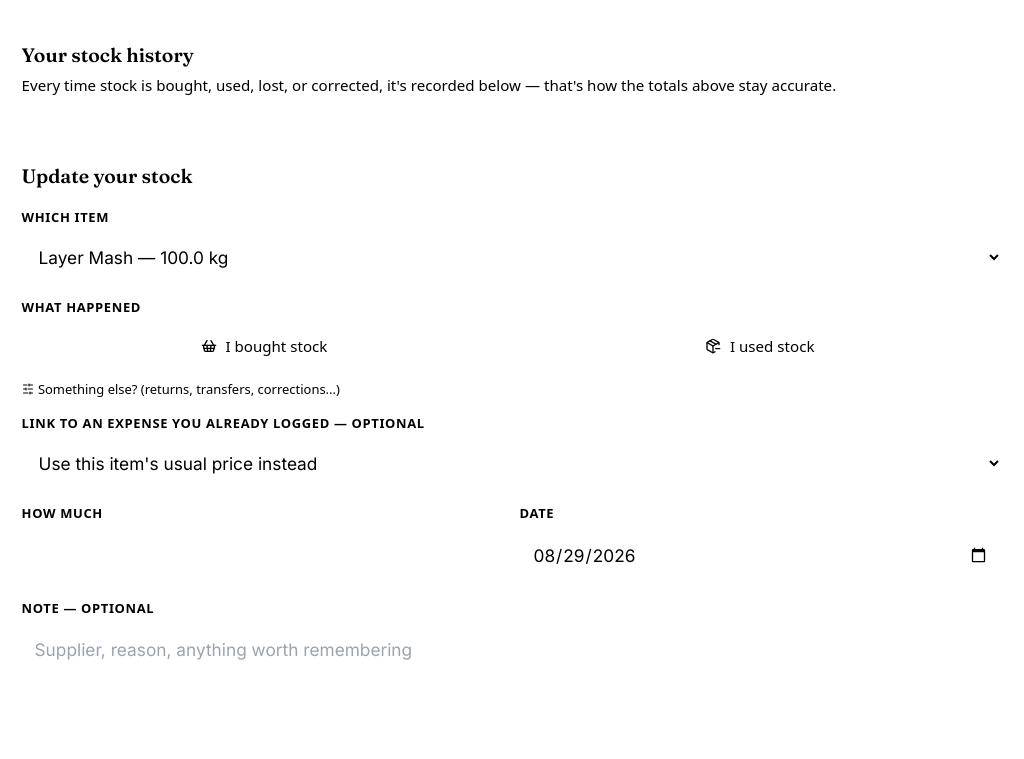
Test: InventoryView — progressive disclosure for stock updates › reveals the full type picker after "Something else?" is clicked
This screenshot has width=1024, height=759.
(page scrolled)
Click the button "Something else? (returns, transfers, corrections...)".
click(181, 389)  # box left=22, top=381, right=340, bottom=398
(page scrolled)
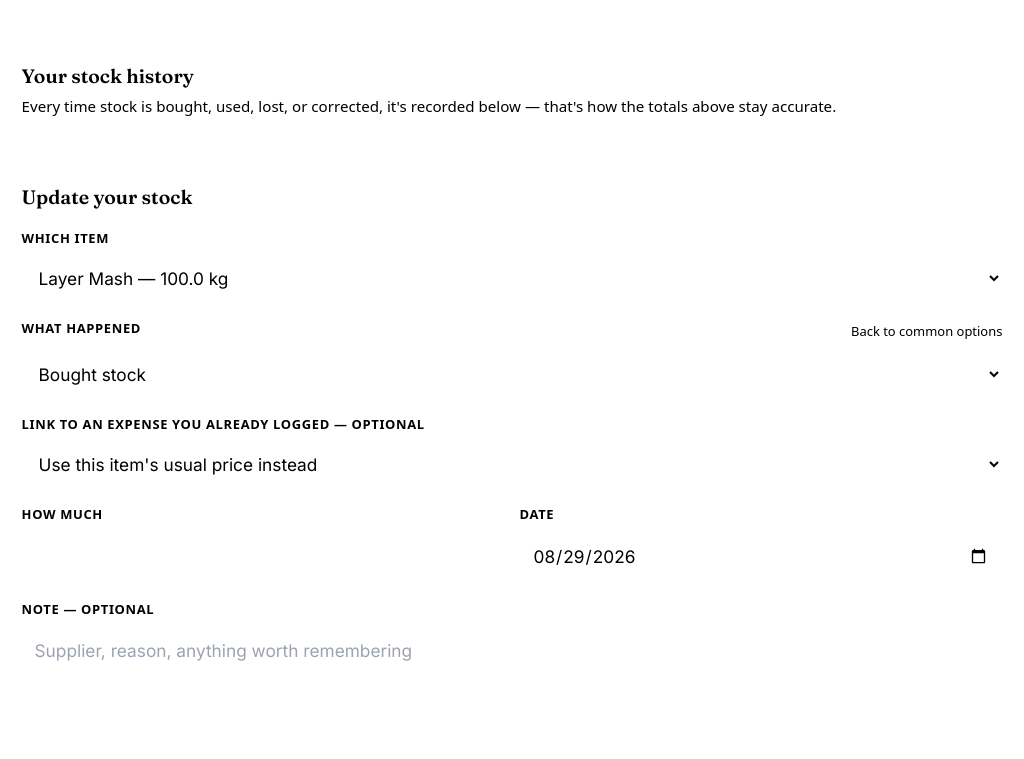
Can toggle back to the simple view.
Click the button "Back to common options".
click(927, 332)  # box left=851, top=323, right=1002, bottom=340
(page scrolled)
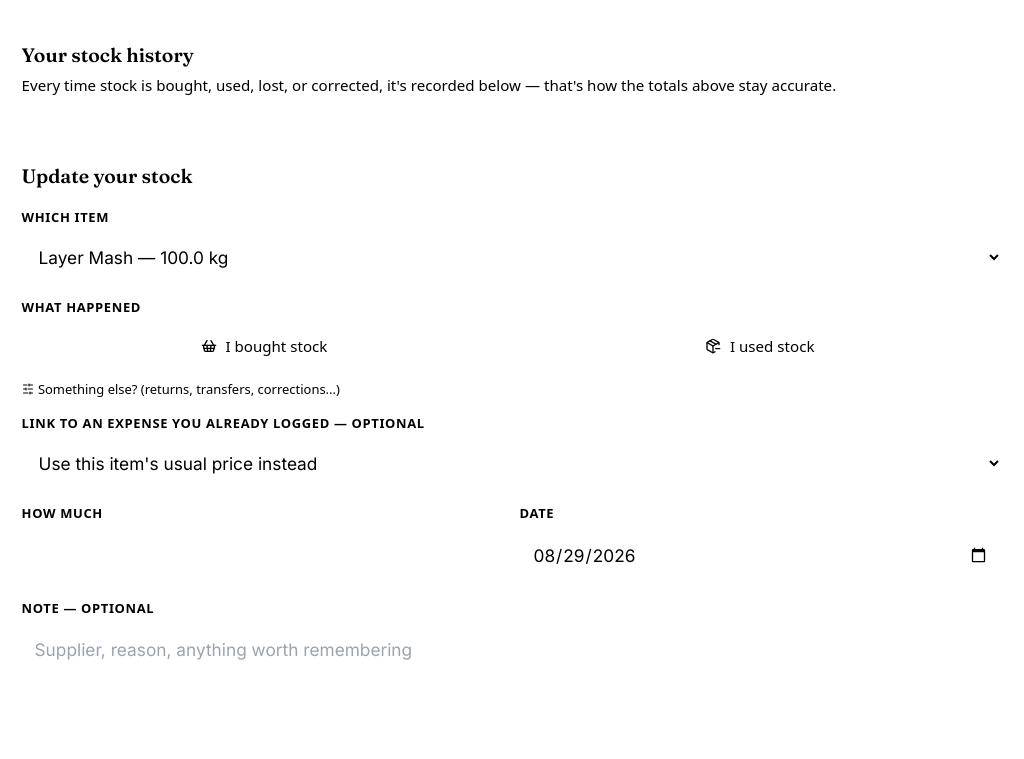
Expected: the button "I bought stock" is shown, left=22, top=322, right=507, bottom=370
